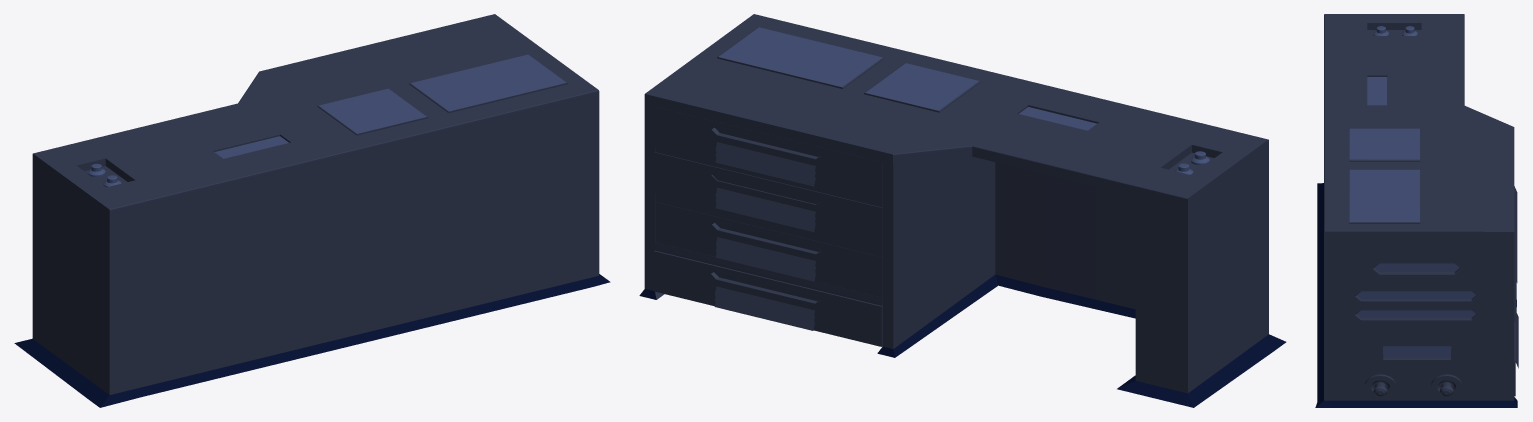
Rendered from OfficeModel&Anim.fbx.
The picture shows the model from 3 angles, left to right: view 1: azimuth 30°, elevation 25°; view 2: azimuth 150°, elevation 25°; view 3: azimuth 270°, elevation 25°; orthographic projection. The views are drawn at different scales.
Visible parts, largest first — view 1: desk_3:desk_base, desk_3:board1, desk_3:board2; view 2: desk_3:desk_base, desk_3:drawer6, desk_3:drawer3, desk_3:drawer5, desk_3:drawer4, desk_3:board1, desk_3:board2; view 3: desk_3:desk_base, desk_3:board1, desk_3:board2, desk_3:button1, desk_3:button2, desk_3:drawer6, desk_3:drawer3.
Part boxes in pixels (x1,y1,x2,y2): desk_3:desk_base: [14, 14, 610, 407]; desk_3:board1: [409, 54, 567, 112]; desk_3:board2: [317, 88, 428, 135]; desk_3:desk_base: [639, 14, 1286, 407]; desk_3:drawer6: [654, 250, 882, 346]; desk_3:drawer3: [654, 107, 882, 202]; desk_3:drawer5: [655, 202, 882, 297]; desk_3:drawer4: [654, 152, 882, 247]; desk_3:board1: [717, 27, 883, 88]; desk_3:board2: [864, 63, 980, 112]; desk_3:desk_base: [1315, 14, 1517, 407]; desk_3:board1: [1349, 169, 1420, 223]; desk_3:board2: [1349, 128, 1420, 161]; desk_3:button1: [1364, 374, 1396, 398]; desk_3:button2: [1431, 374, 1462, 398]; desk_3:drawer6: [1514, 313, 1518, 396]; desk_3:drawer3: [1506, 186, 1517, 243].
Bounding box in the file's own units: 241 × 86.23 × 89.79.
